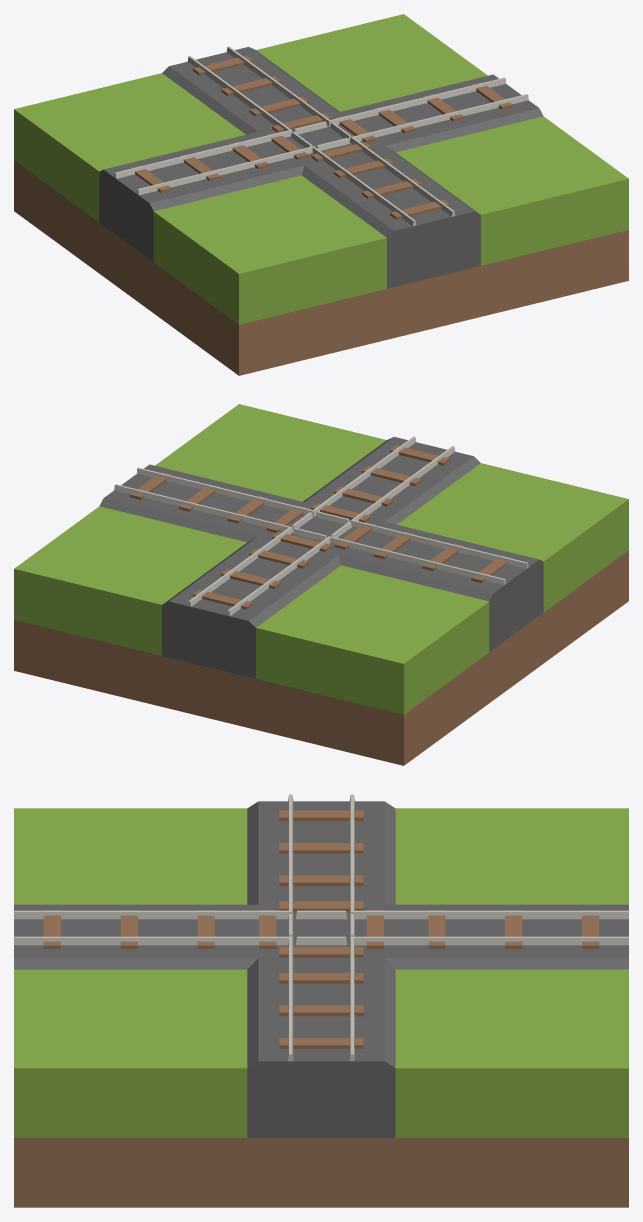
Rendered from rail_cross2.fbx.
3 views of the same model, one above another, from view 1: azimuth 30°, elevation 25°; view 2: azimuth 150°, elevation 25°; view 3: azimuth 270°, elevation 25° (orthographic). The views are drawn at different scales.
Parts seen in each view (by area): view 1: landscape-track-1-rail-crossing; view 2: landscape-track-1-rail-crossing; view 3: landscape-track-1-rail-crossing.
Part boxes in pixels (box(x1,y1,x2,y2)): landscape-track-1-rail-crossing: box(14, 14, 628, 375); landscape-track-1-rail-crossing: box(14, 404, 628, 765); landscape-track-1-rail-crossing: box(14, 794, 628, 1207).
Size of the model in its own units: 8 by 2.2 by 8.
Materials: 1 (1 with a texture image).
